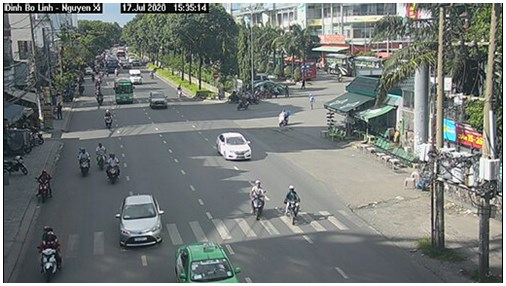xe_buyt: (112, 78, 136, 106)
xe_hoi: (115, 192, 163, 252), (175, 244, 242, 283), (215, 131, 256, 161), (148, 87, 169, 110)
xe_may: (36, 219, 63, 280), (247, 177, 265, 221), (285, 183, 303, 226), (30, 168, 52, 202), (76, 146, 91, 179), (93, 139, 108, 170), (106, 152, 121, 182), (103, 108, 114, 129)
